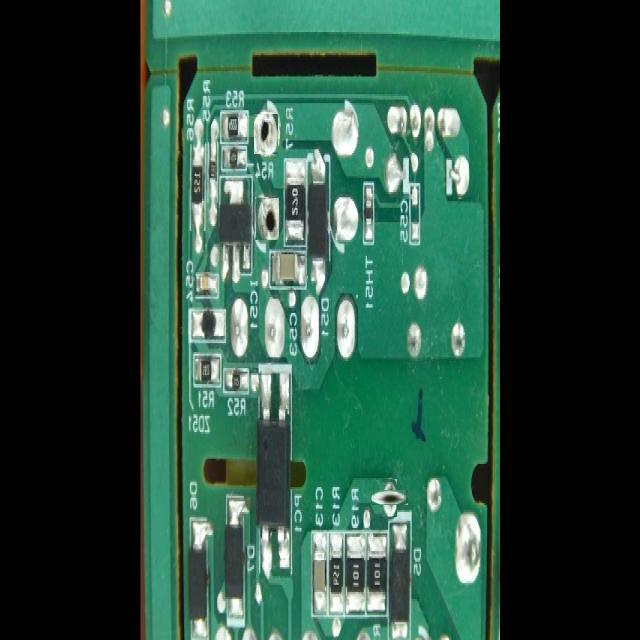damged: (256, 197, 280, 240), (254, 114, 278, 154), (376, 485, 403, 511)
